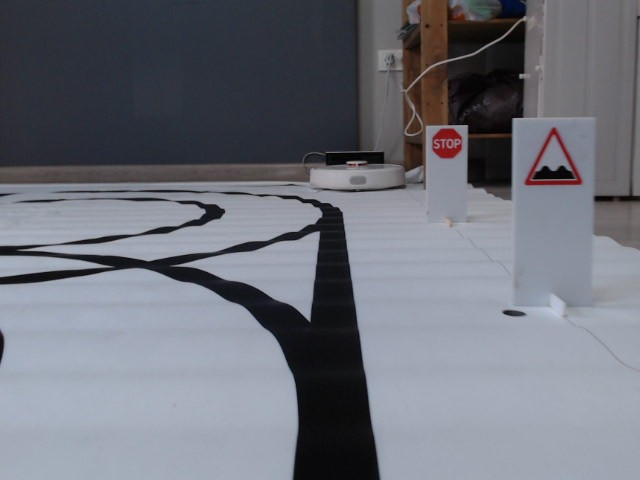Nerov: (524, 119, 586, 193)
Stop: (430, 128, 463, 158)
